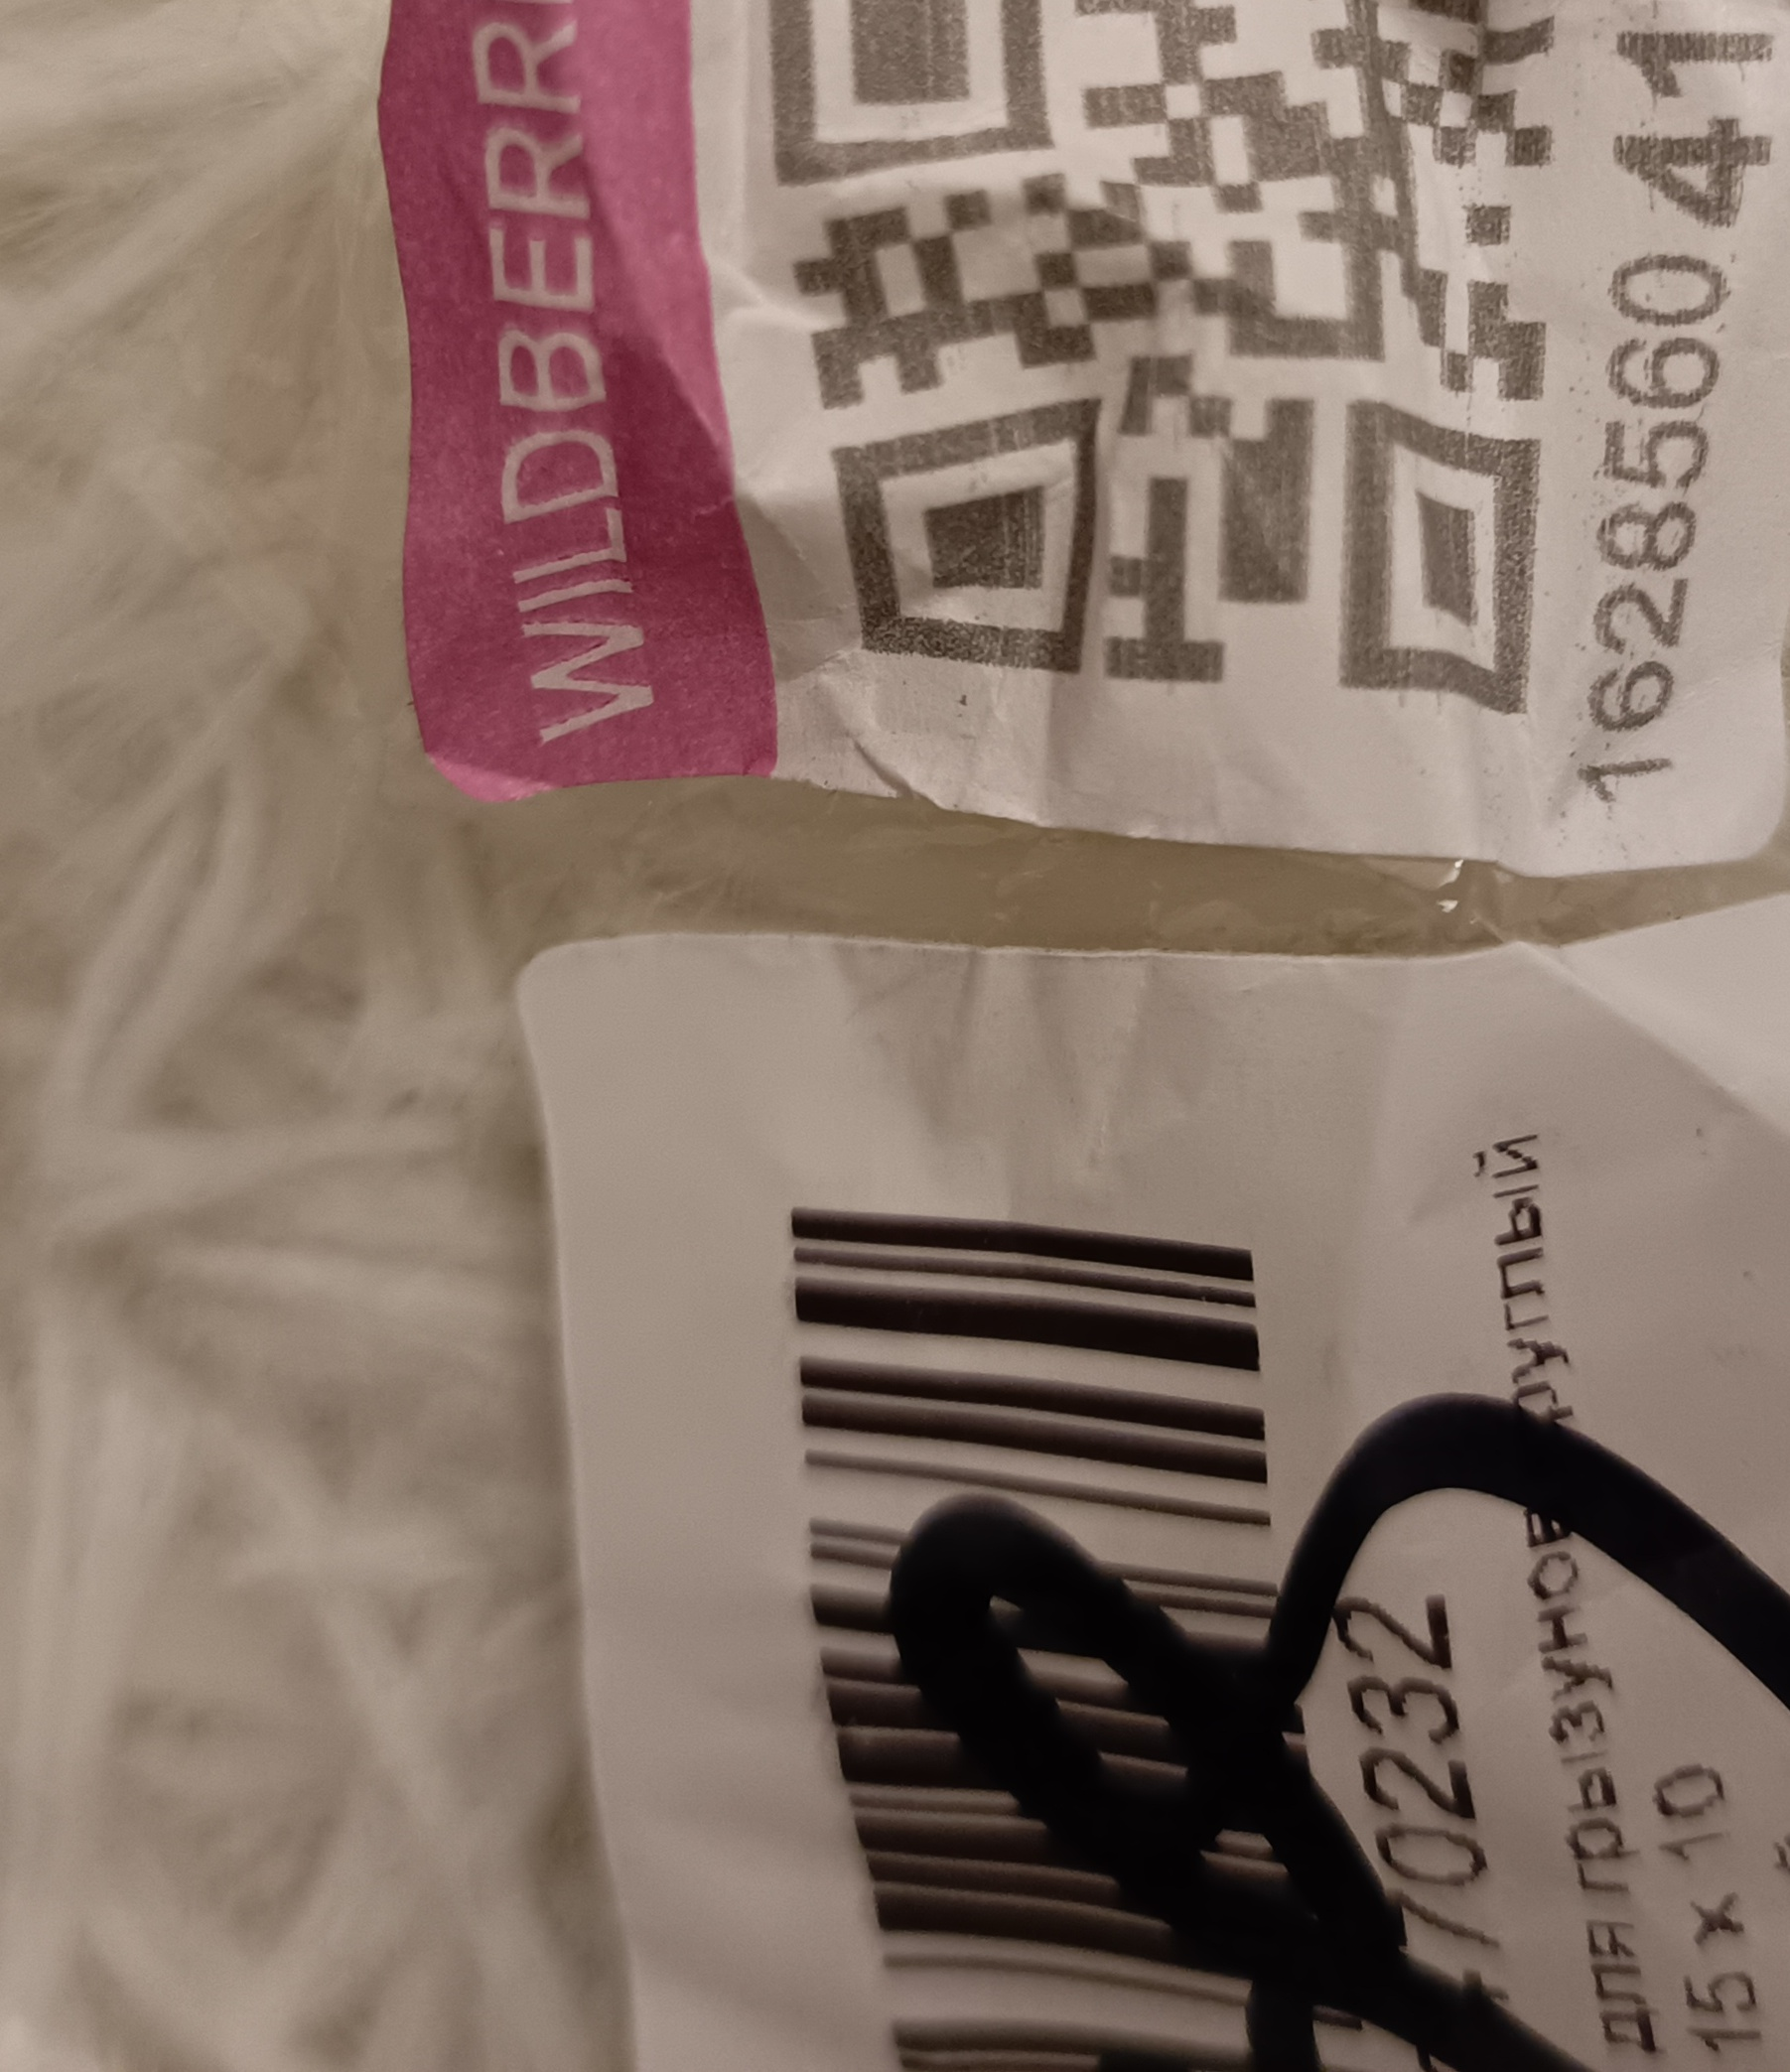1d: (784, 1196, 1320, 2063)
